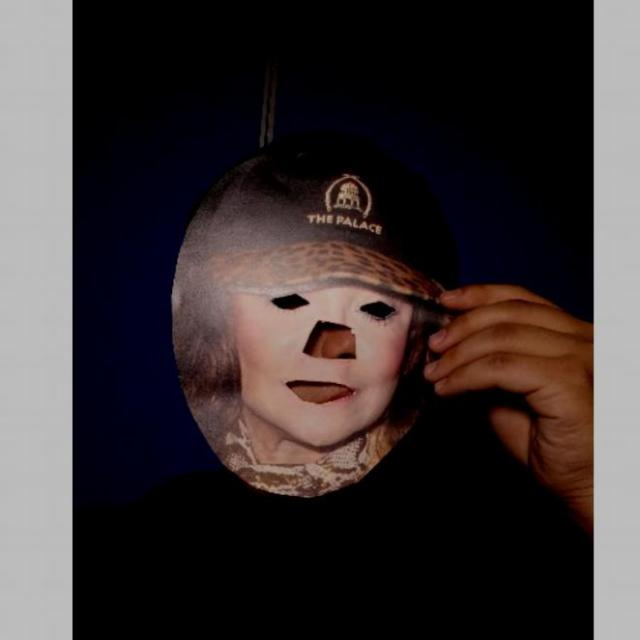mask: (167, 147, 466, 501)
